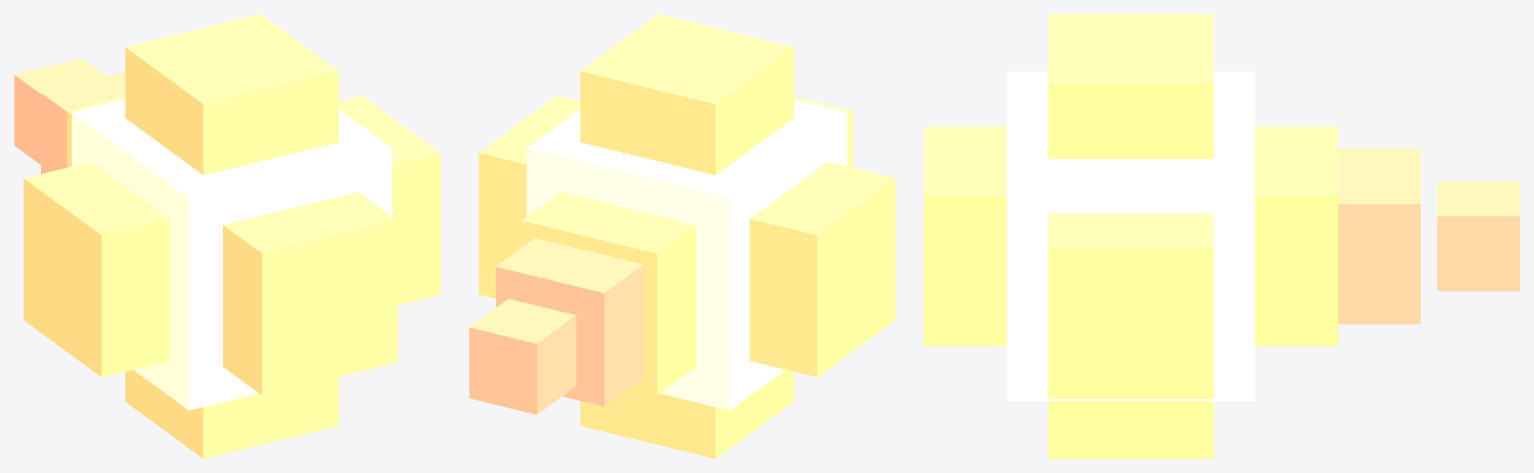
Rendered from fireball.glb.
3 renders of one model, left to right at view 1: azimuth 30°, elevation 25°; view 2: azimuth 150°, elevation 25°; view 3: azimuth 270°, elevation 25°, orthographic. The views are drawn at different scales.
Parts seen in each view (by area): view 1: Magic_Fireball; view 2: Magic_Fireball; view 3: Magic_Fireball.
Part boxes in pixels (left/top/right/bottom): Magic_Fireball: left=14, top=14, right=440, bottom=458; Magic_Fireball: left=469, top=14, right=895, bottom=458; Magic_Fireball: left=924, top=14, right=1519, bottom=458.
Bounding box in the file's own units: 0.5 × 0.5 × 0.72.
